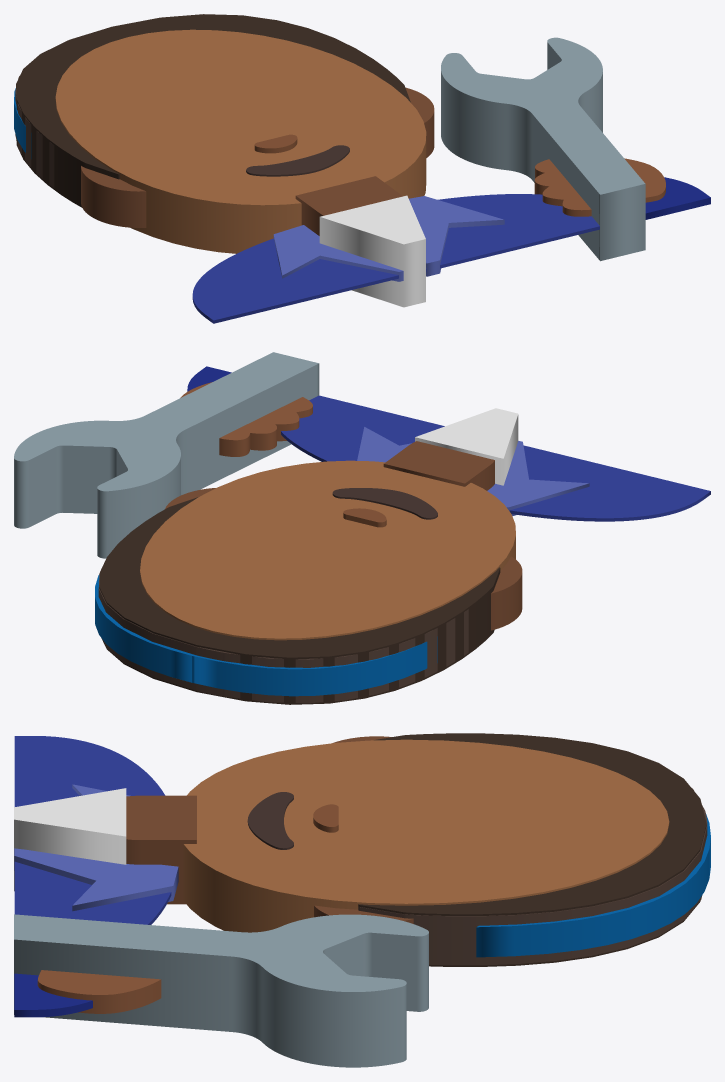
The model's file is emoji_u1f468_1f3fe_200d_1f527.glb.
3 views of the same model, one above another, from view 1: azimuth 30°, elevation 25°; view 2: azimuth 150°, elevation 25°; view 3: azimuth 270°, elevation 25° (orthographic). The views are drawn at different scales.
Parts seen in each view (by area): view 1: emoji_u1f468_1f3fe_200d_1f527; view 2: emoji_u1f468_1f3fe_200d_1f527; view 3: emoji_u1f468_1f3fe_200d_1f527.
Boxes of the visible parts, box(x1,y1,x2,y2) form: emoji_u1f468_1f3fe_200d_1f527: box(14, 14, 710, 323); emoji_u1f468_1f3fe_200d_1f527: box(14, 352, 710, 704); emoji_u1f468_1f3fe_200d_1f527: box(14, 733, 710, 1067).
Size of the model in its own units: 0.0332 by 0.004 by 0.0335.
